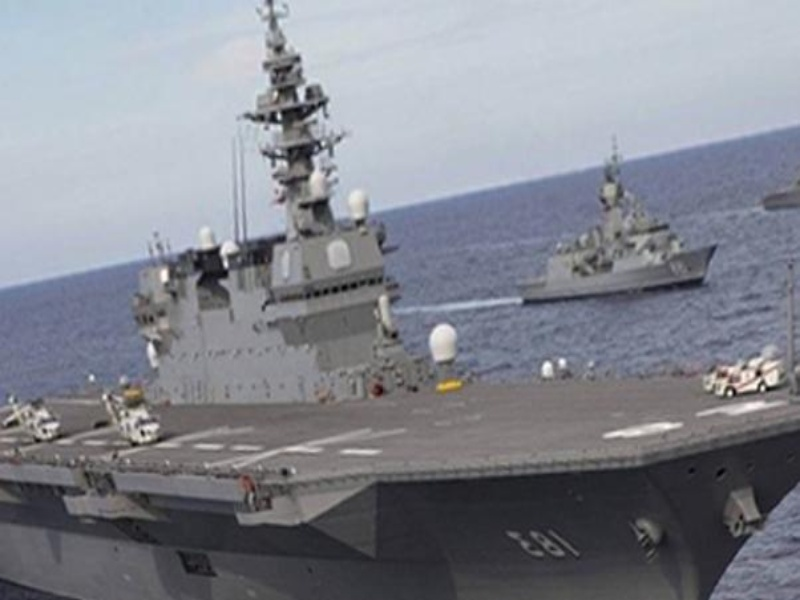carrier: (4, 290, 791, 598)
cruise: (514, 188, 716, 295)
